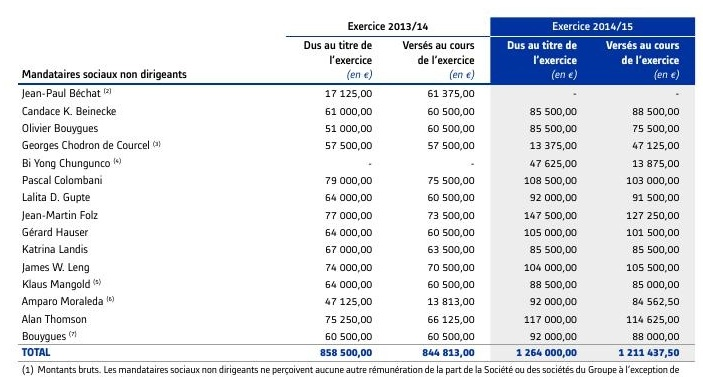table: (0, 0, 703, 377)
